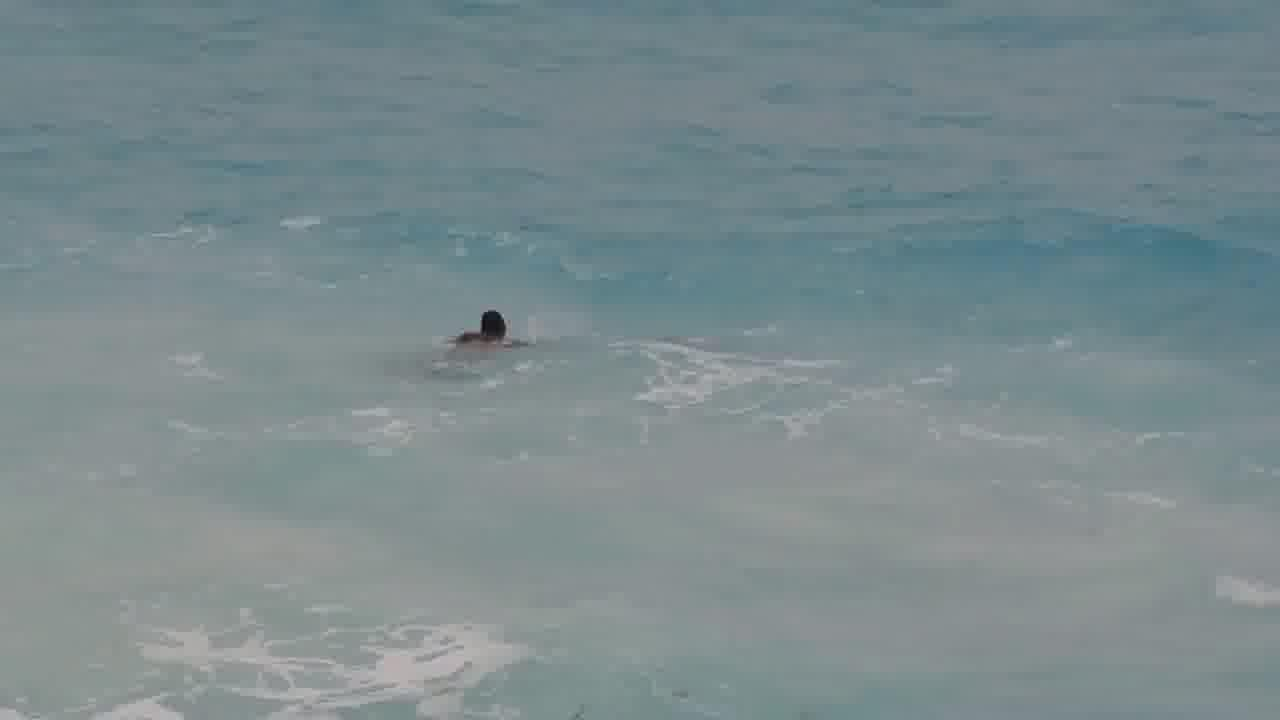swimmer: (470, 299, 522, 355)
